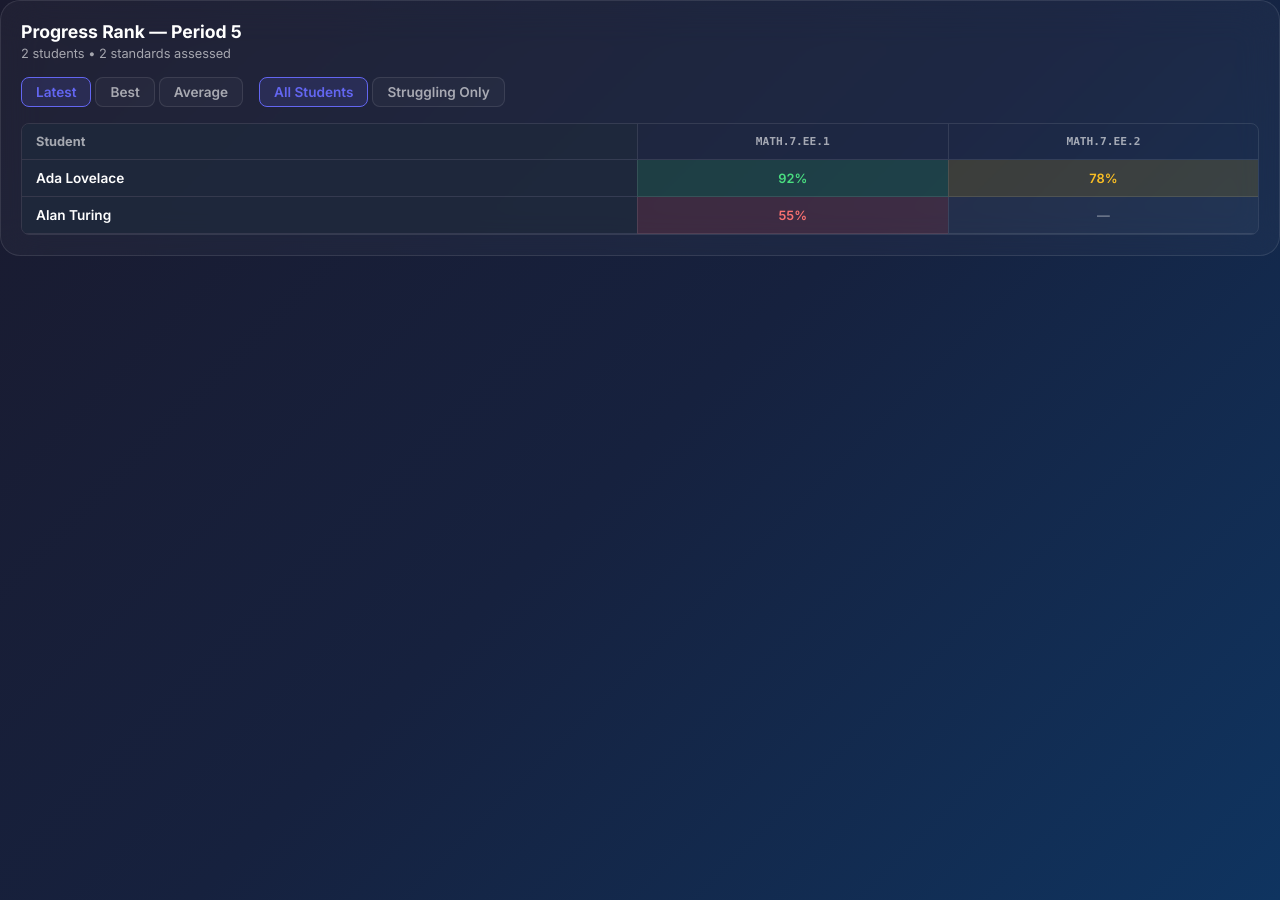
it: ProgressRankGrid mounts with content from every extracted section › filters to struggling students only
Expected: the text "Ada Lovelace" is shown, x1=22 y1=160 x2=637 y2=196
Click the button "Struggling Only". click: [439, 92]
box: x1=372 y1=77 x2=505 y2=107
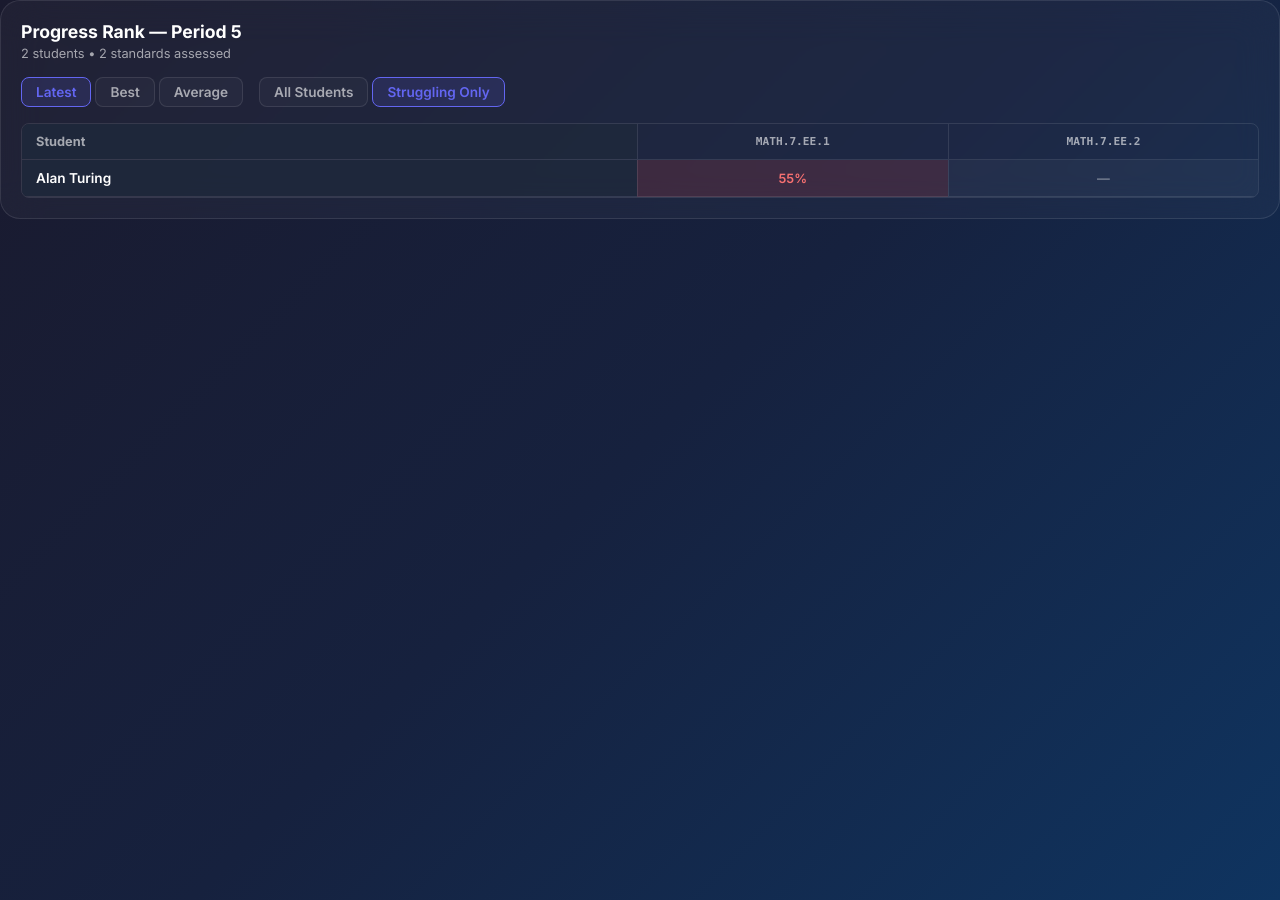
Expected: the text "Alan Turing" is shown, x1=22 y1=160 x2=637 y2=196
Result: the text "Ada Lovelace" is gone
